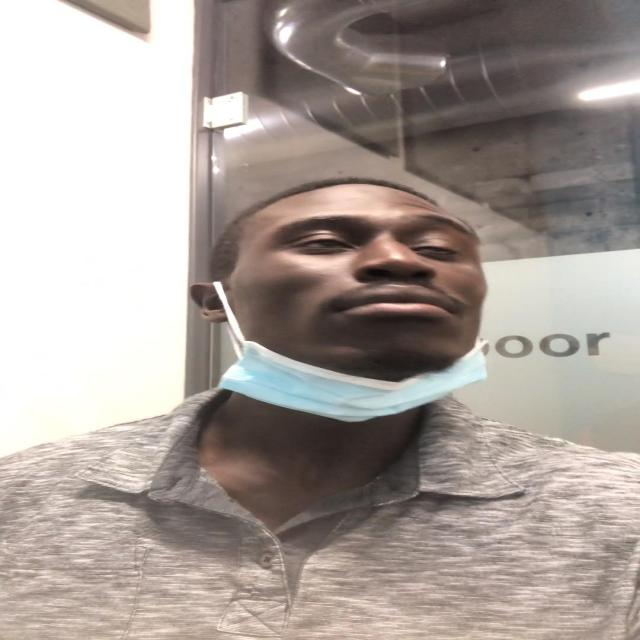face: (228, 200, 496, 376)
